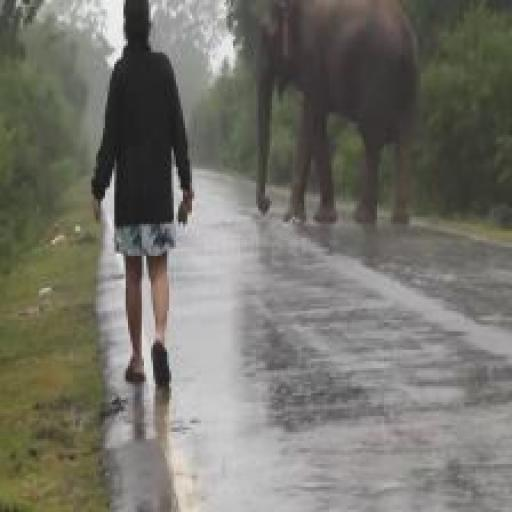Elephant: (233, 7, 453, 258)
